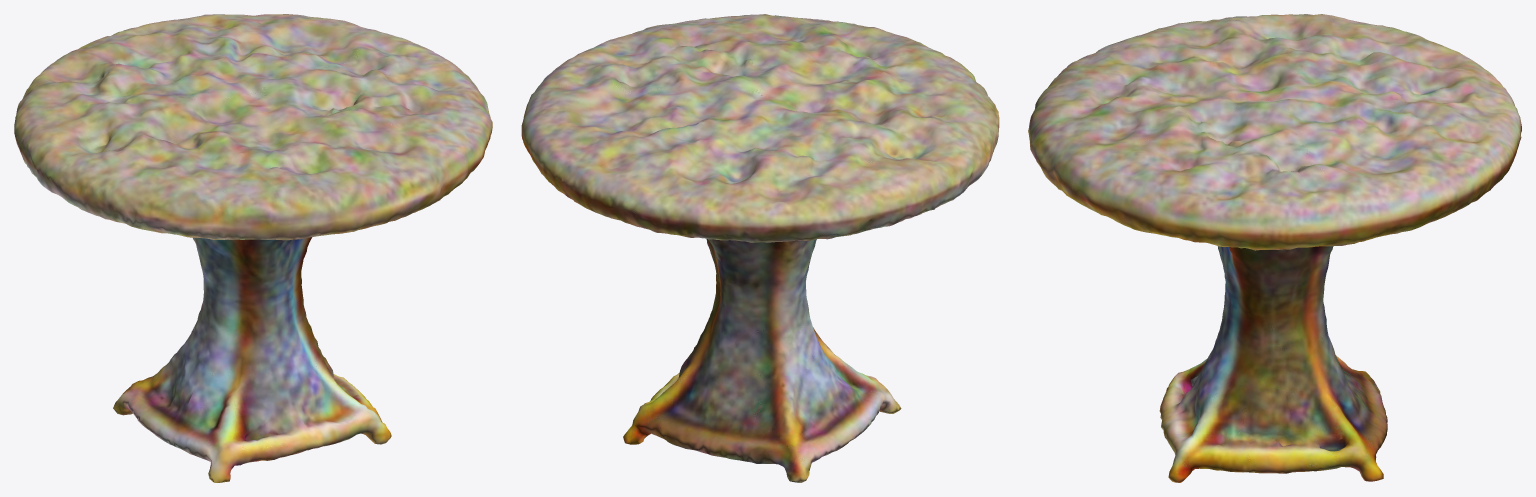
File: table.glb
3 views of the same model, side by side, from view 1: azimuth 30°, elevation 25°; view 2: azimuth 150°, elevation 25°; view 3: azimuth 270°, elevation 25° (orthographic). The views are drawn at different scales.
Visible parts, largest first — view 1: Mesh1; view 2: Mesh1; view 3: Mesh1.
Boxes of the visible parts, x1,y1,x2,y2 form: Mesh1: [14, 14, 492, 482]; Mesh1: [521, 14, 999, 482]; Mesh1: [1028, 14, 1521, 482].
Bounding box in the file's own units: 1.2 × 0.9354 × 1.2.
Materials: 1 (1 with a texture image).
